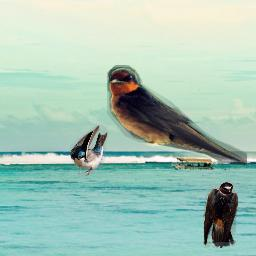Swallow: (107, 65, 247, 165), (203, 182, 238, 248), (70, 125, 108, 176)
